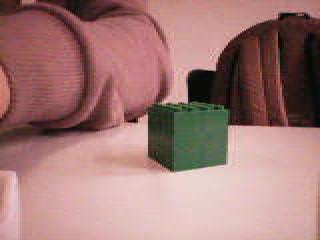legocube: (144, 99, 233, 174)
